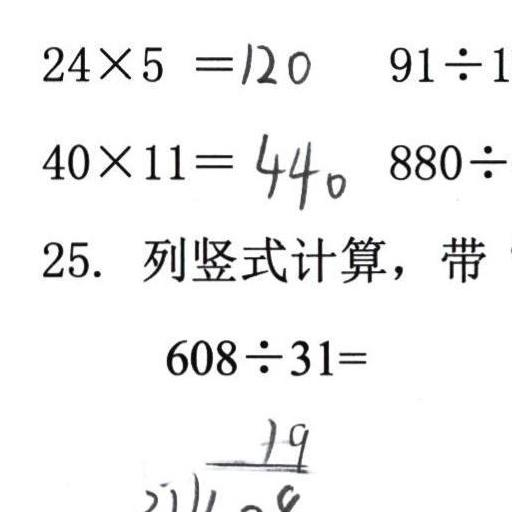ans: (251, 129, 348, 210), (236, 36, 310, 87)
